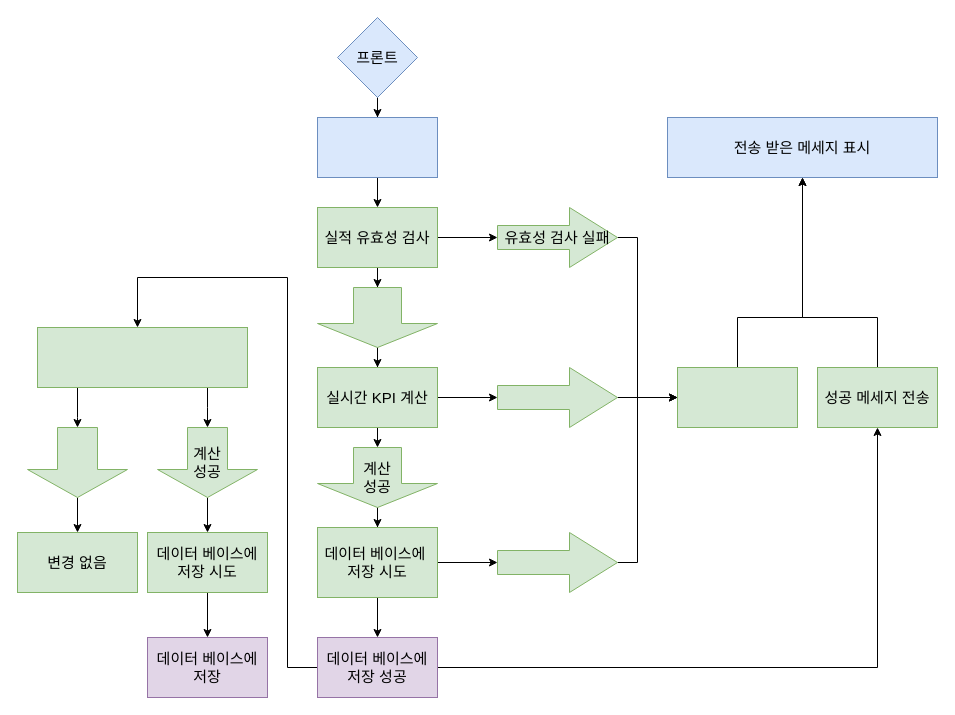
Image size: 955x715. Some labels were removed from this diagram. Here are the shapes that lost their labels. From the top down, the centre of each, then its label:
(377,147): 실적 작성
(377,317): 검사 성공
(142,357): 저장되어 있는 실적을 바탕으로 일일 실적을 계산
(557,397): 계산 실패
(737,397): 실패 메세지 전송
(77,462): 실적 없음
(557,562): 저장 실패
